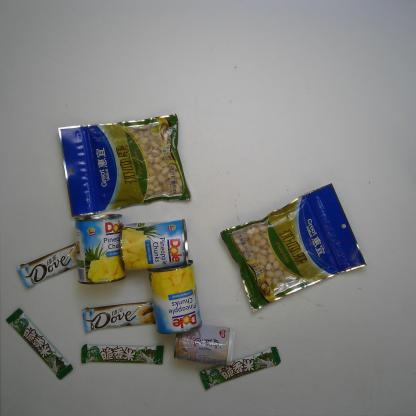Canned Food: (147, 259, 203, 334), (74, 213, 126, 285), (119, 218, 189, 271), (173, 323, 236, 366)
Chocolate: (5, 308, 74, 381), (200, 346, 282, 390), (16, 243, 78, 288), (82, 300, 157, 334), (80, 343, 165, 365)
Dried Fruit: (218, 181, 367, 313), (57, 110, 191, 217)
